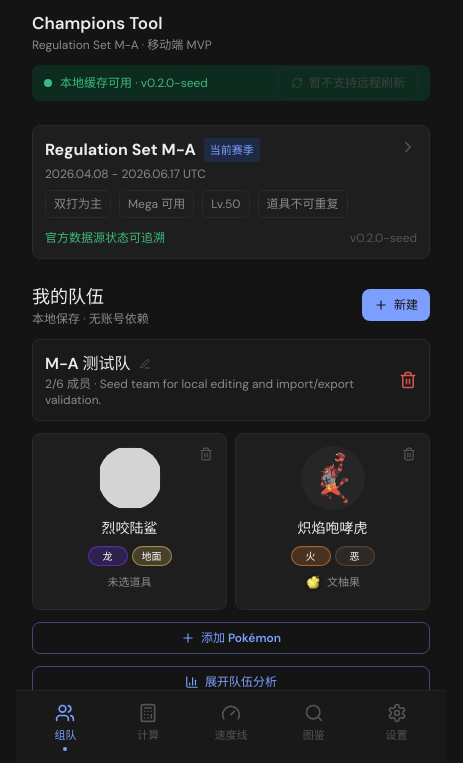
Scenario: App page flows › uses Mega form stats on the speed line when selected
Expected: the heading "我的队伍" is shown, [32,285,104,309]
Click the button "速度线" at (231, 727), box [190,699,272,755]
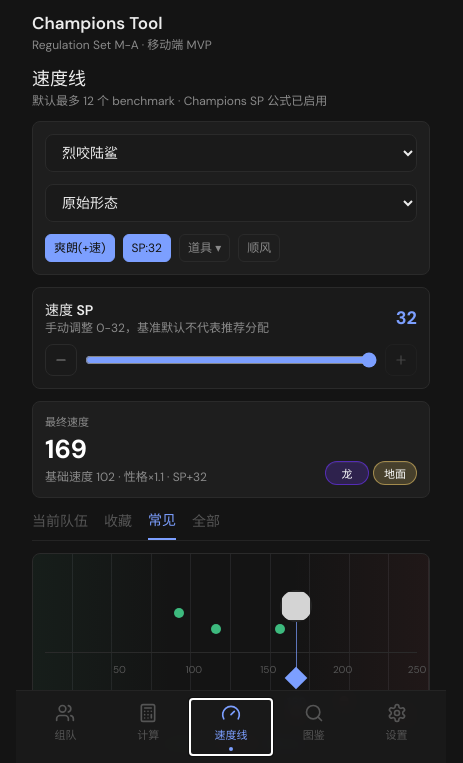
Expected: the text "最终速度" is shown, [45,414,89,428]
Select "超级烈咬陆鲨" in the 2nd dropdown showing "原始形态" at (231, 202), box [45,184,417,222]
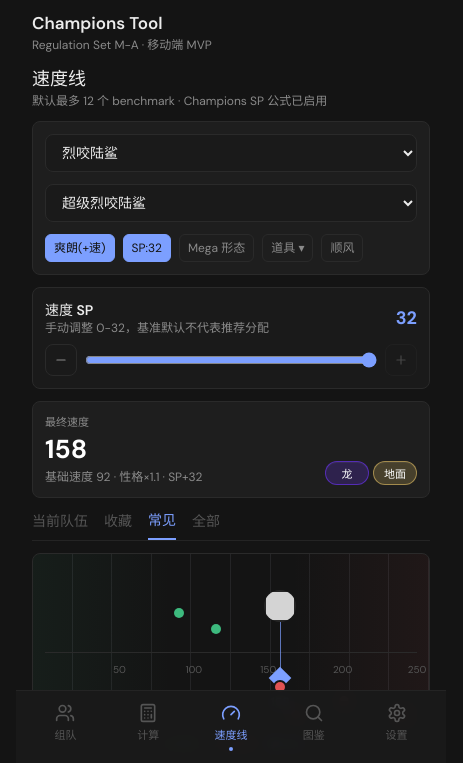
Expected: the text "Mega 形态" is shown, [179,234,254,262]
Expected: the text "基础速度 92 · 性格×1.1 · SP+32" is shown, [45,469,202,485]
Expected: the text "158" is shown, [45,432,87,466]
